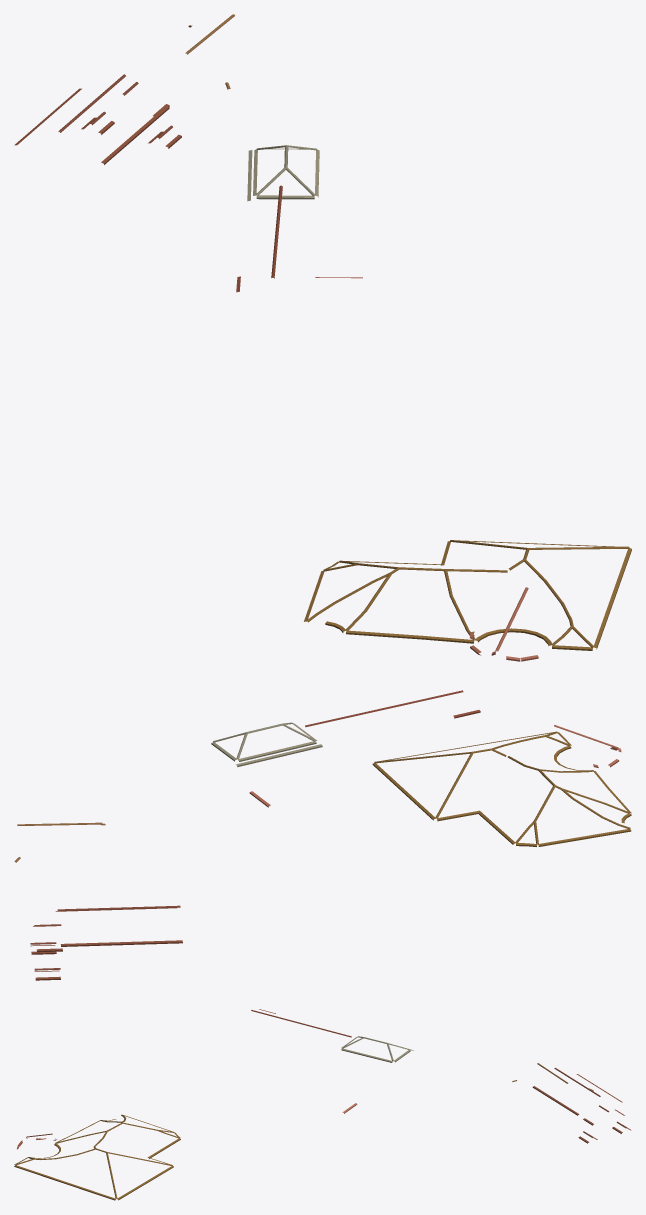
The picture shows the model from 3 angles, top to bottom: view 1: azimuth 30°, elevation 25°; view 2: azimuth 150°, elevation 25°; view 3: azimuth 270°, elevation 25°; orthographic projection. The views are drawn at different scales.
Visible parts, largest first — view 1: detail; view 2: detail; view 3: detail.
Boxes of the visible parts, x1,y1,x2,y2 form: detail: [14, 14, 631, 661]; detail: [14, 690, 631, 980]; detail: [14, 1009, 631, 1200].
Size of the model in its own units: 35.18 by 24.23 by 102.
